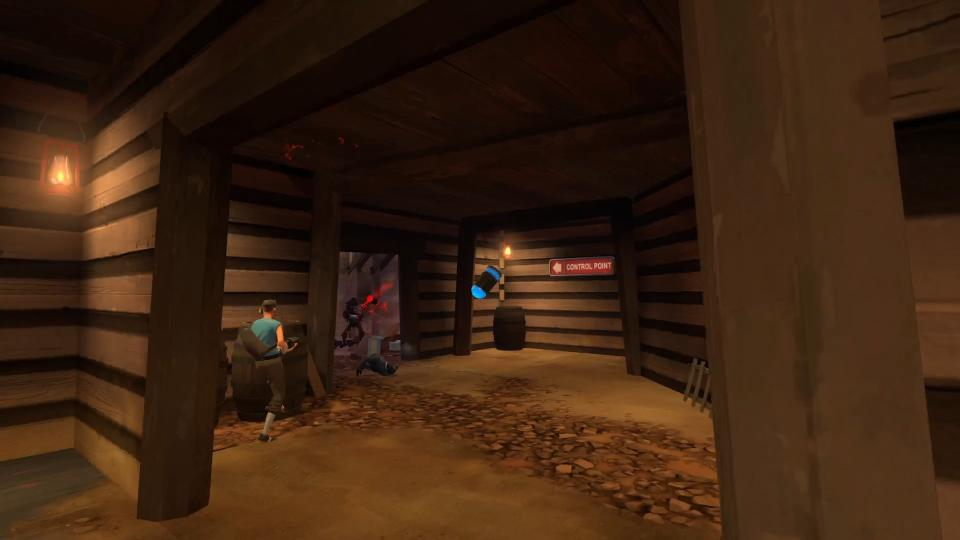Enemy: (240, 298, 300, 443), (350, 352, 400, 379), (341, 296, 364, 347)
